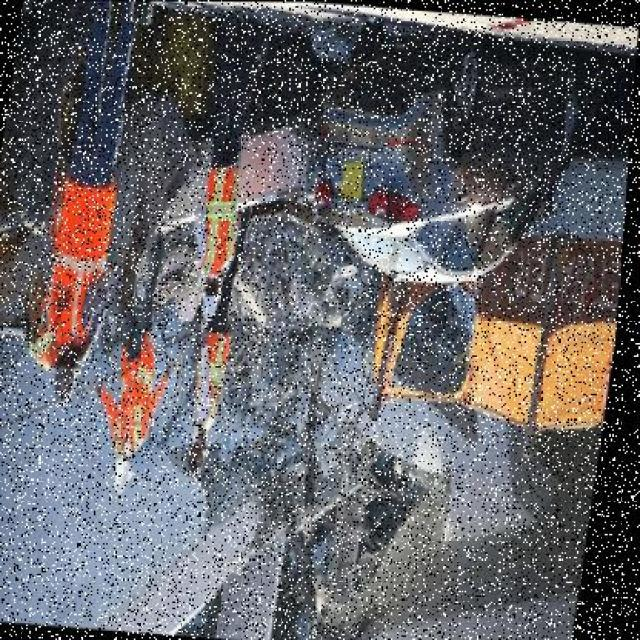helmet: (188, 440, 215, 482), (117, 454, 141, 500), (200, 288, 227, 326)
vest: (46, 177, 110, 337), (197, 163, 243, 269), (115, 340, 159, 444)
